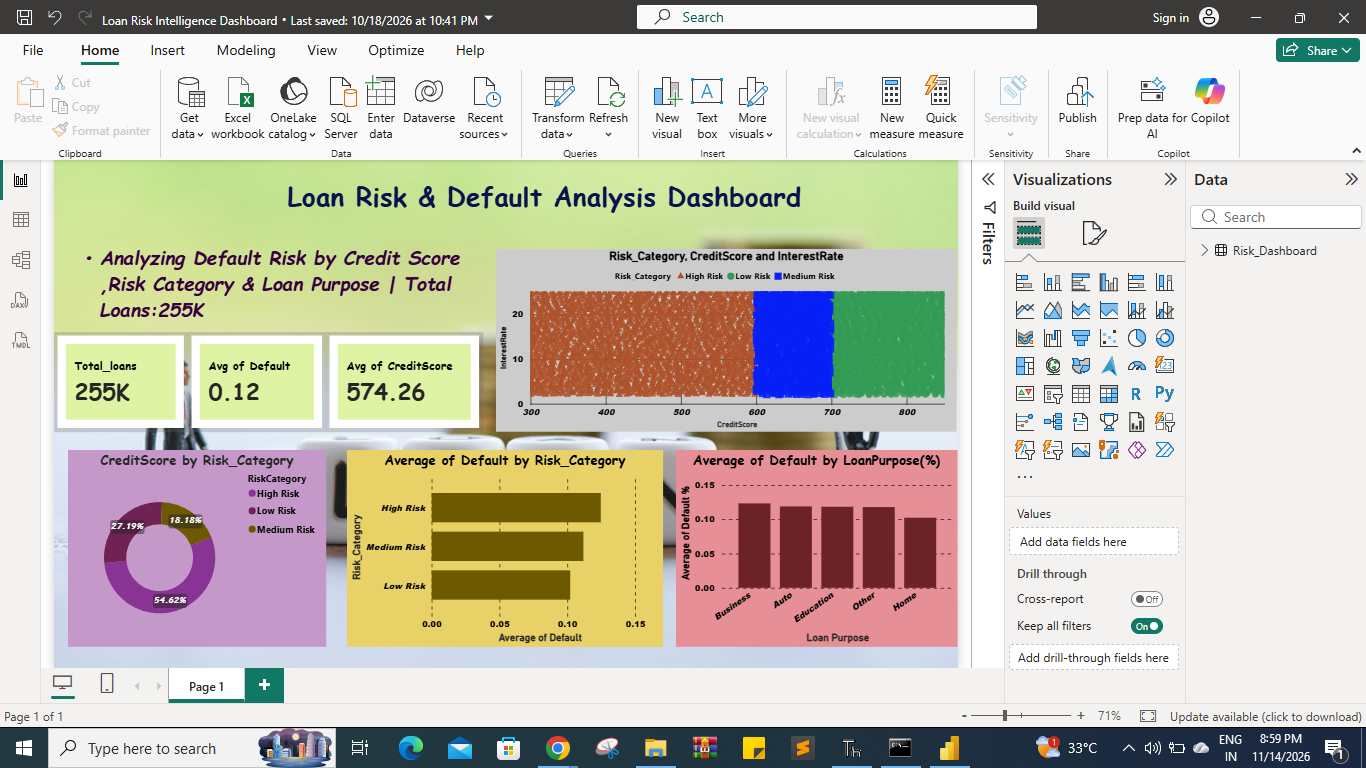

The dashboard page shown, as its layout file describes it:
{"tool":"powerbi","page":{"name":"Page 1","canvas":[1280,720],"ordinal":0},"visuals":[{"type":"donutChart","title":"CreditScore by Risk_Category","fields":{"Category":["Risk_Dashboard.Risk_Category"],"Y":["CountNonNull(Risk_Dashboard.CreditScore)"]},"box":[20.2,410.4,365.8,279.4],"z":0},{"type":"clusteredBarChart","fields":{"Y":["Avg(Risk_Dashboard.Default)"],"Category":["Risk_Dashboard.Risk_Category"]},"box":[414.7,410.4,447.8,279.4],"z":1000},{"type":"clusteredColumnChart","title":"Average of Default by LoanPurpose(%)","fields":{"Category":["Risk_Dashboard.LoanPurpose"],"Y":["Avg(Risk_Dashboard.Default)"]},"box":[881.3,410.4,398.9,279.4],"z":2000},{"type":"scatterChart","fields":{"X":["Risk_Dashboard.CreditScore"],"Y":["Risk_Dashboard.InterestRate"],"Series":["Risk_Dashboard.Risk_Category"]},"box":[607.7,113.8,653.8,259.2],"z":3000},{"type":"textbox","box":[161.6,19.8,1067.2,62.4],"z":4000},{"type":"textbox","box":[19.8,114.8,561.3,129],"z":5000},{"type":"cardVisual","fields":{"Data":["Risk_Dashboard.Measure"]},"box":[0,243.8,189.9,141.7],"z":5001},{"type":"cardVisual","fields":{"Data":["Avg(Risk_Dashboard.Default)"]},"box":[189.9,243.8,195.6,141.7],"z":5002},{"type":"cardVisual","fields":{"Data":["Avg(Risk_Dashboard.CreditScore)"]},"box":[385.5,243.8,222.5,141.7],"z":5003}]}

Visuals, with their boxes on the page's 1280x720 design canvas (x1, y1, x2, y2). These are canvas units, not pixel positions in the 1366x768 screenshot, which may show the page scaled, cropped or inside an application window:
"CreditScore by Risk_Category" donutChart: x1=20 y1=410 x2=386 y2=690
clusteredBarChart - Avg(Risk_Dashboard.Default) x Risk_Dashboard.Risk_Category: x1=415 y1=410 x2=862 y2=690
"Average of Default by LoanPurpose(%)" clusteredColumnChart: x1=881 y1=410 x2=1280 y2=690
scatterChart - Risk_Dashboard.CreditScore x Risk_Dashboard.InterestRate: x1=608 y1=114 x2=1262 y2=373
textbox: x1=162 y1=20 x2=1229 y2=82
textbox: x1=20 y1=115 x2=581 y2=244
cardVisual - Risk_Dashboard.Measure: x1=0 y1=244 x2=190 y2=386
cardVisual - Avg(Risk_Dashboard.Default): x1=190 y1=244 x2=386 y2=386
cardVisual - Avg(Risk_Dashboard.CreditScore): x1=386 y1=244 x2=608 y2=386
